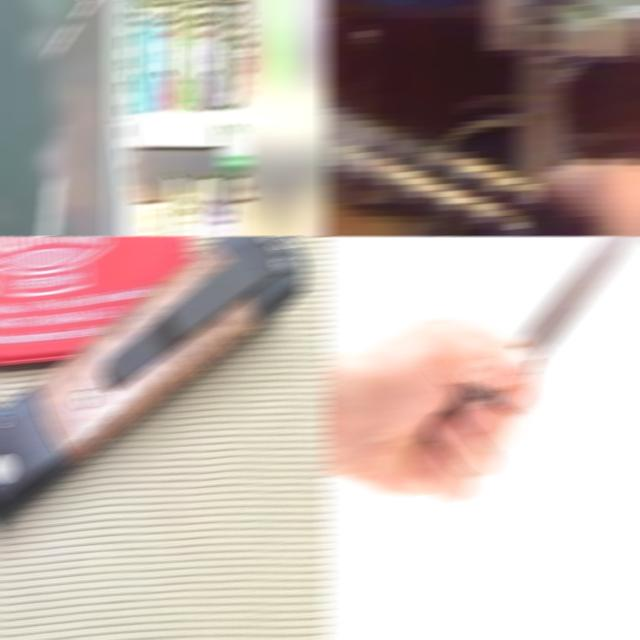Knife: (0, 236, 309, 529), (514, 236, 635, 365)
Knife_Handle: (322, 66, 640, 236), (37, 123, 71, 236)
